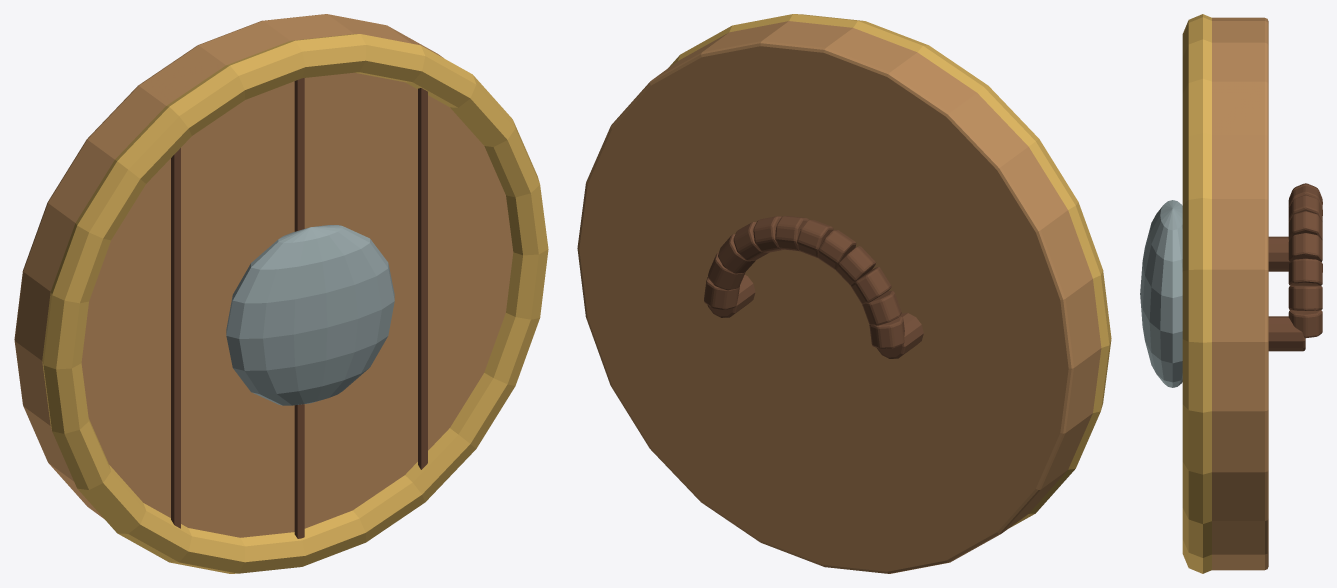
File: P025_round_shield.glb
3 renders of one model, left to right at view 1: azimuth 30°, elevation 25°; view 2: azimuth 150°, elevation 25°; view 3: azimuth 270°, elevation 25°, orthographic. The views are drawn at different scales.
Parts seen in each view (by area): view 1: P025_shield_001, P025_rim_002, P025_boss_006, P025_plank_seam_005, P025_plank_seam_003, P025_plank_seam_004; view 2: P025_shield_001, P025_rim_002, P025_back_grip_017, P025_back_grip_014, P025_back_grip_015, P025_back_grip_016, P025_back_grip_018, P025_back_grip_013, P025_grip_mount_019, P025_back_grip_012, P025_back_grip_011, P025_back_grip_007 (+3 smaller); view 3: P025_shield_001, P025_rim_002, P025_boss_006, P025_grip_mount_020, P025_back_grip_009, P025_back_grip_008, P025_back_grip_010, P025_back_grip_007, P025_grip_mount_019, P025_back_grip_011, P025_back_grip_012, P025_back_grip_013.
Part boxes in pixels (left/top/right/bottom): P025_shield_001: left=14, top=14, right=513, bottom=537; P025_rim_002: left=42, top=34, right=548, bottom=573; P025_boss_006: left=226, top=225, right=394, bottom=405; P025_plank_seam_005: left=418, top=88, right=427, bottom=469; P025_plank_seam_003: left=171, top=148, right=180, bottom=528; P025_plank_seam_004: left=294, top=78, right=304, bottom=538; P025_shield_001: left=577, top=21, right=1101, bottom=573; P025_rim_002: left=668, top=14, right=1111, bottom=527; P025_back_grip_017: left=862, top=291, right=901, bottom=325; P025_back_grip_014: left=817, top=230, right=856, bottom=269; P025_back_grip_015: left=835, top=246, right=875, bottom=285; P025_back_grip_016: left=851, top=267, right=891, bottom=304; P025_back_grip_018: left=869, top=316, right=904, bottom=348; P025_back_grip_013: left=797, top=220, right=833, bottom=257; P025_grip_mount_019: left=877, top=313, right=923, bottom=358; P025_back_grip_012: left=775, top=216, right=808, bottom=251; P025_back_grip_011: left=753, top=216, right=783, bottom=252; P025_back_grip_007: left=704, top=277, right=739, bottom=309; P025_shield_001: left=1212, top=17, right=1268, bottom=570; P025_rim_002: left=1182, top=14, right=1211, bottom=573; P025_boss_006: left=1140, top=200, right=1182, bottom=387; P025_grip_mount_020: left=1268, top=316, right=1305, bottom=351; P025_back_grip_009: left=1288, top=258, right=1322, bottom=285; P025_back_grip_008: left=1288, top=285, right=1322, bottom=310; P025_back_grip_010: left=1288, top=233, right=1322, bottom=261; P025_back_grip_007: left=1288, top=310, right=1322, bottom=338; P025_grip_mount_019: left=1268, top=236, right=1289, bottom=271; P025_back_grip_011: left=1288, top=211, right=1322, bottom=239; P025_back_grip_012: left=1288, top=195, right=1322, bottom=221; P025_back_grip_013: left=1288, top=185, right=1322, bottom=208.
Bounding box in the file's own units: 0.448 × 0.448 × 0.1457.
